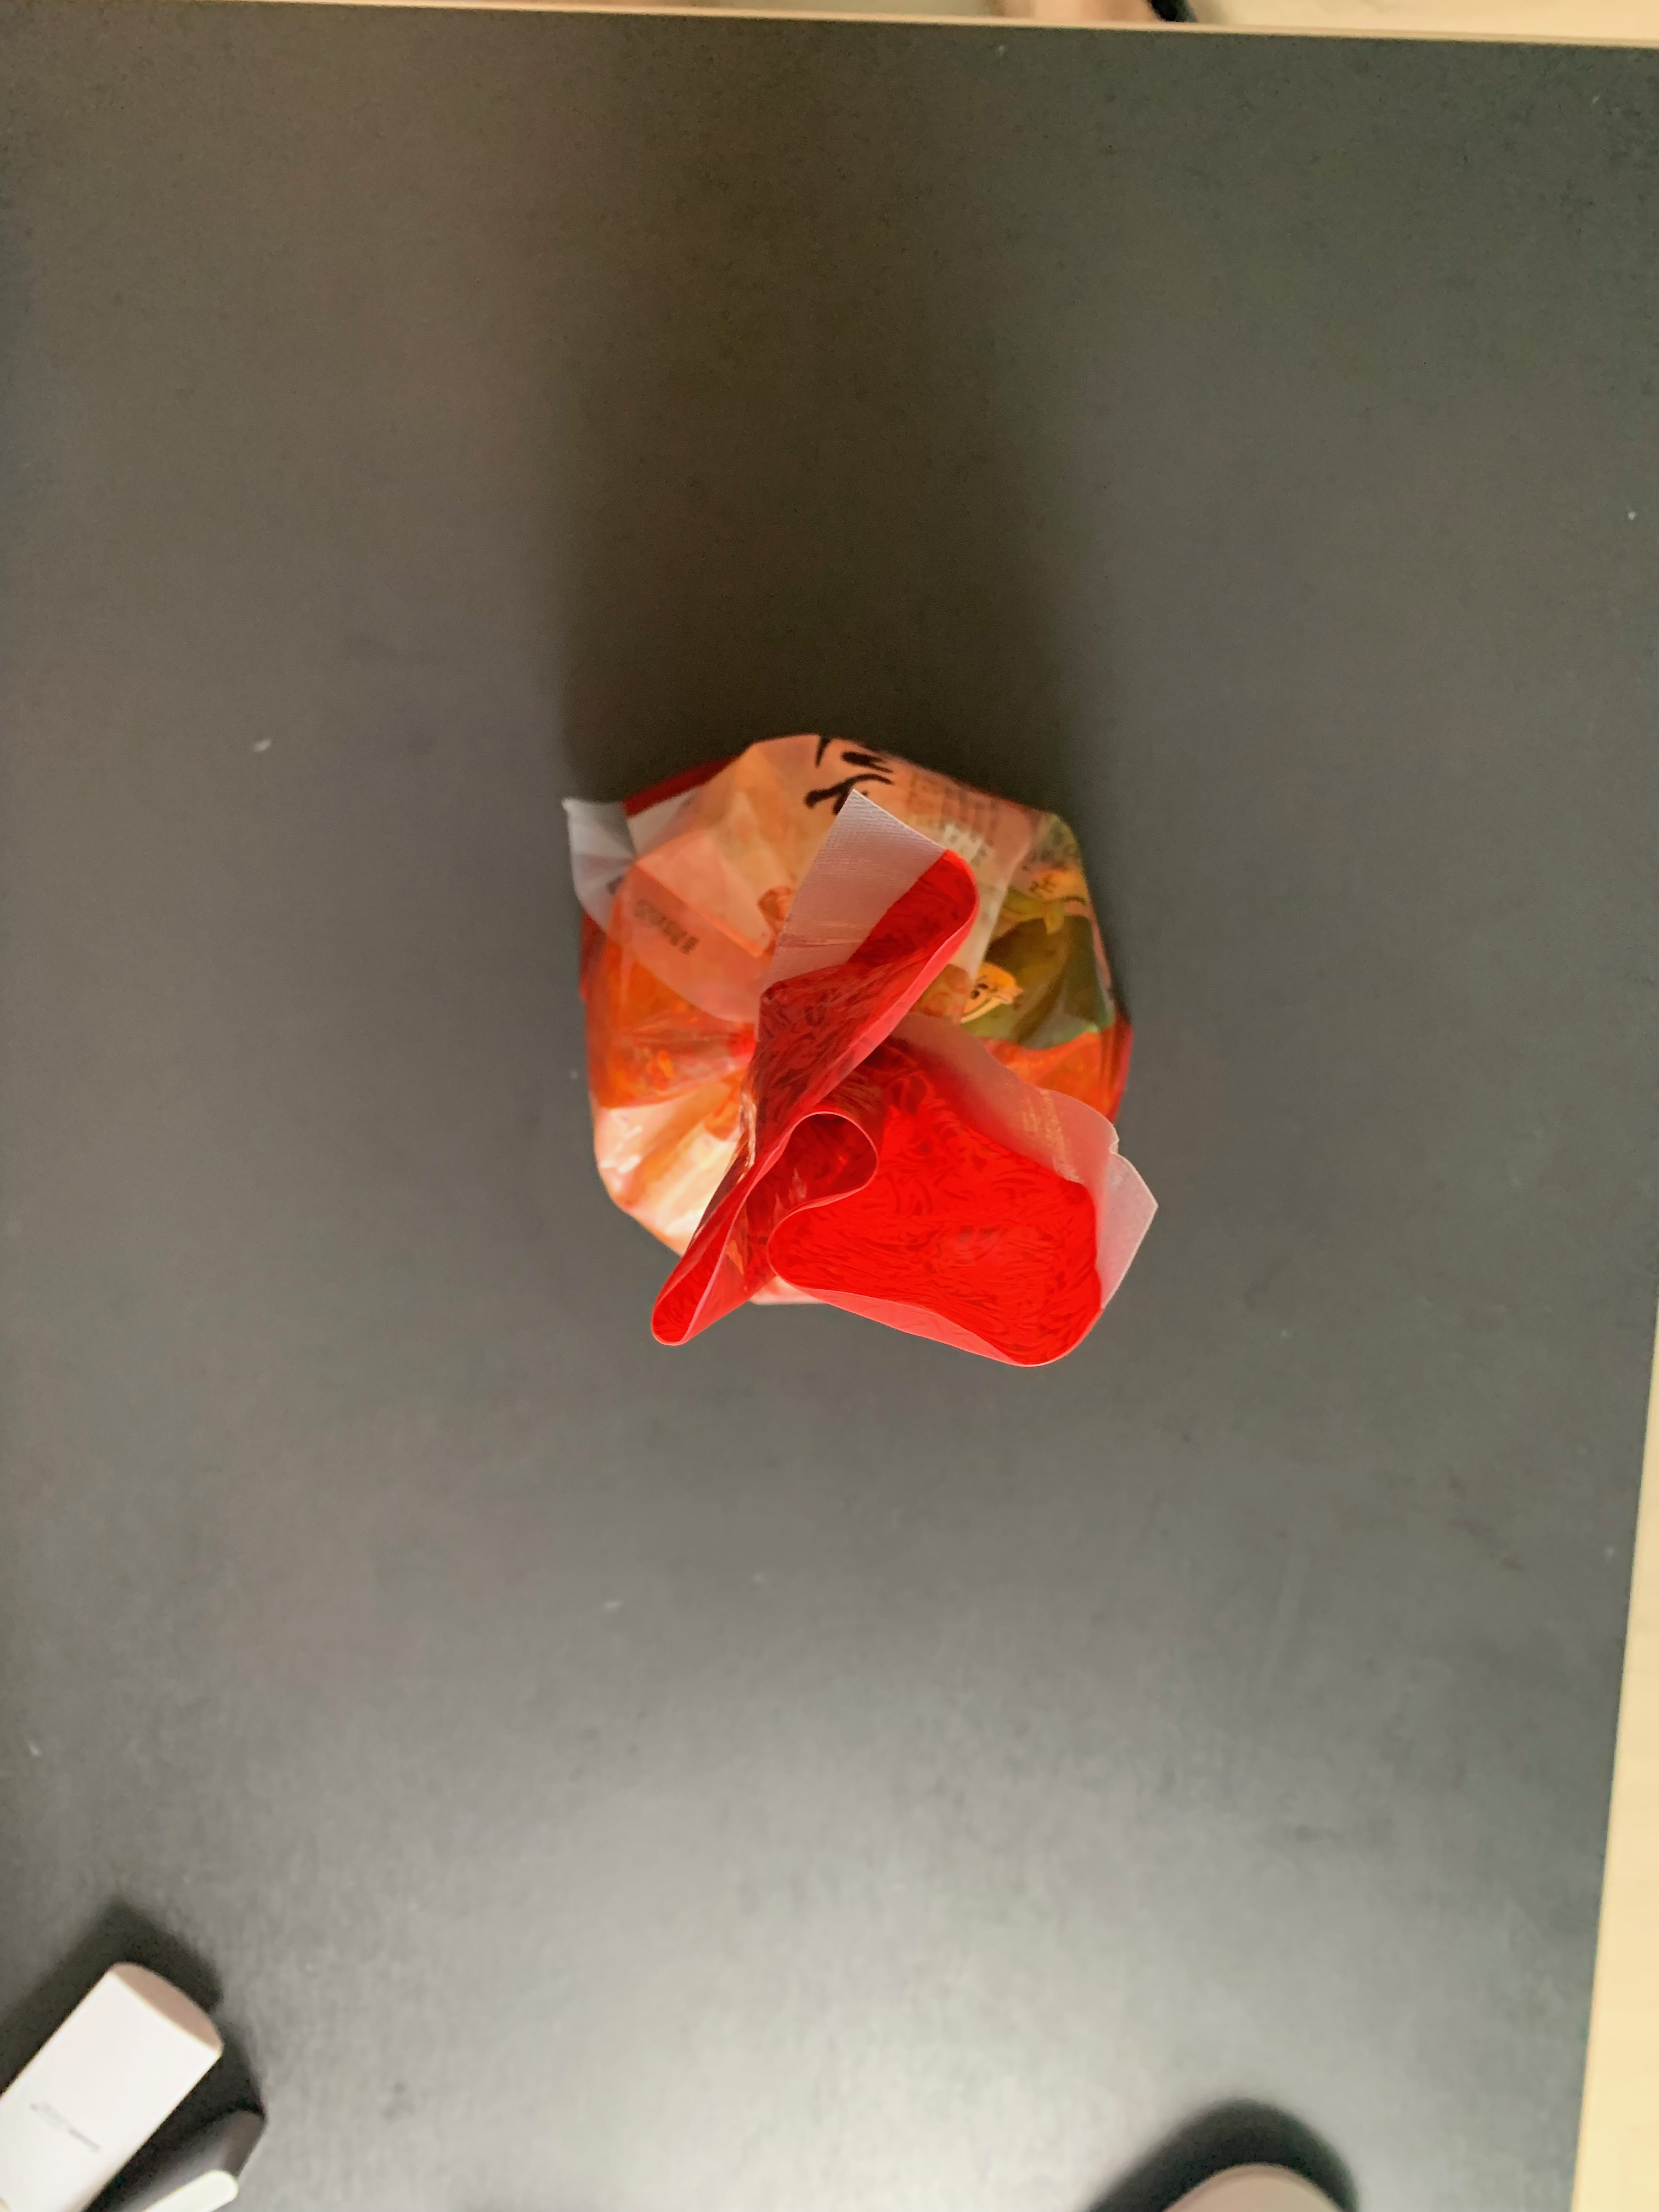kimchi: (582, 735, 1141, 1369)
